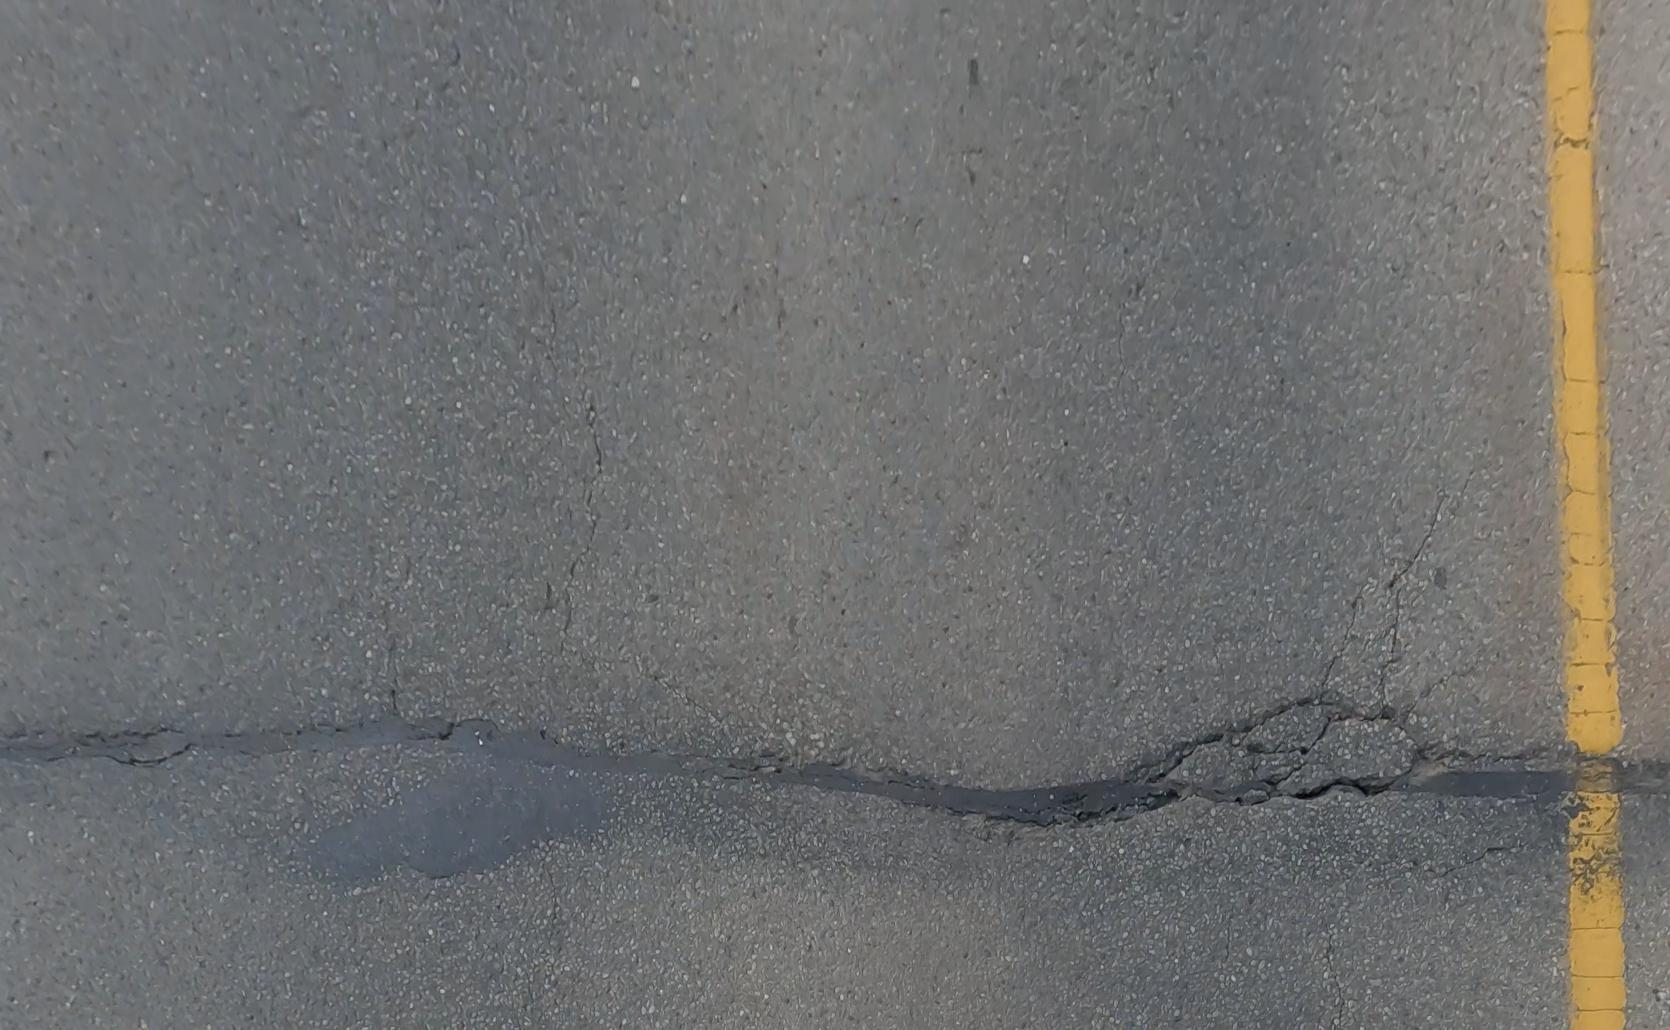pothole: (1393, 753, 1442, 789)
pothole_patch_good: (303, 752, 613, 890)
